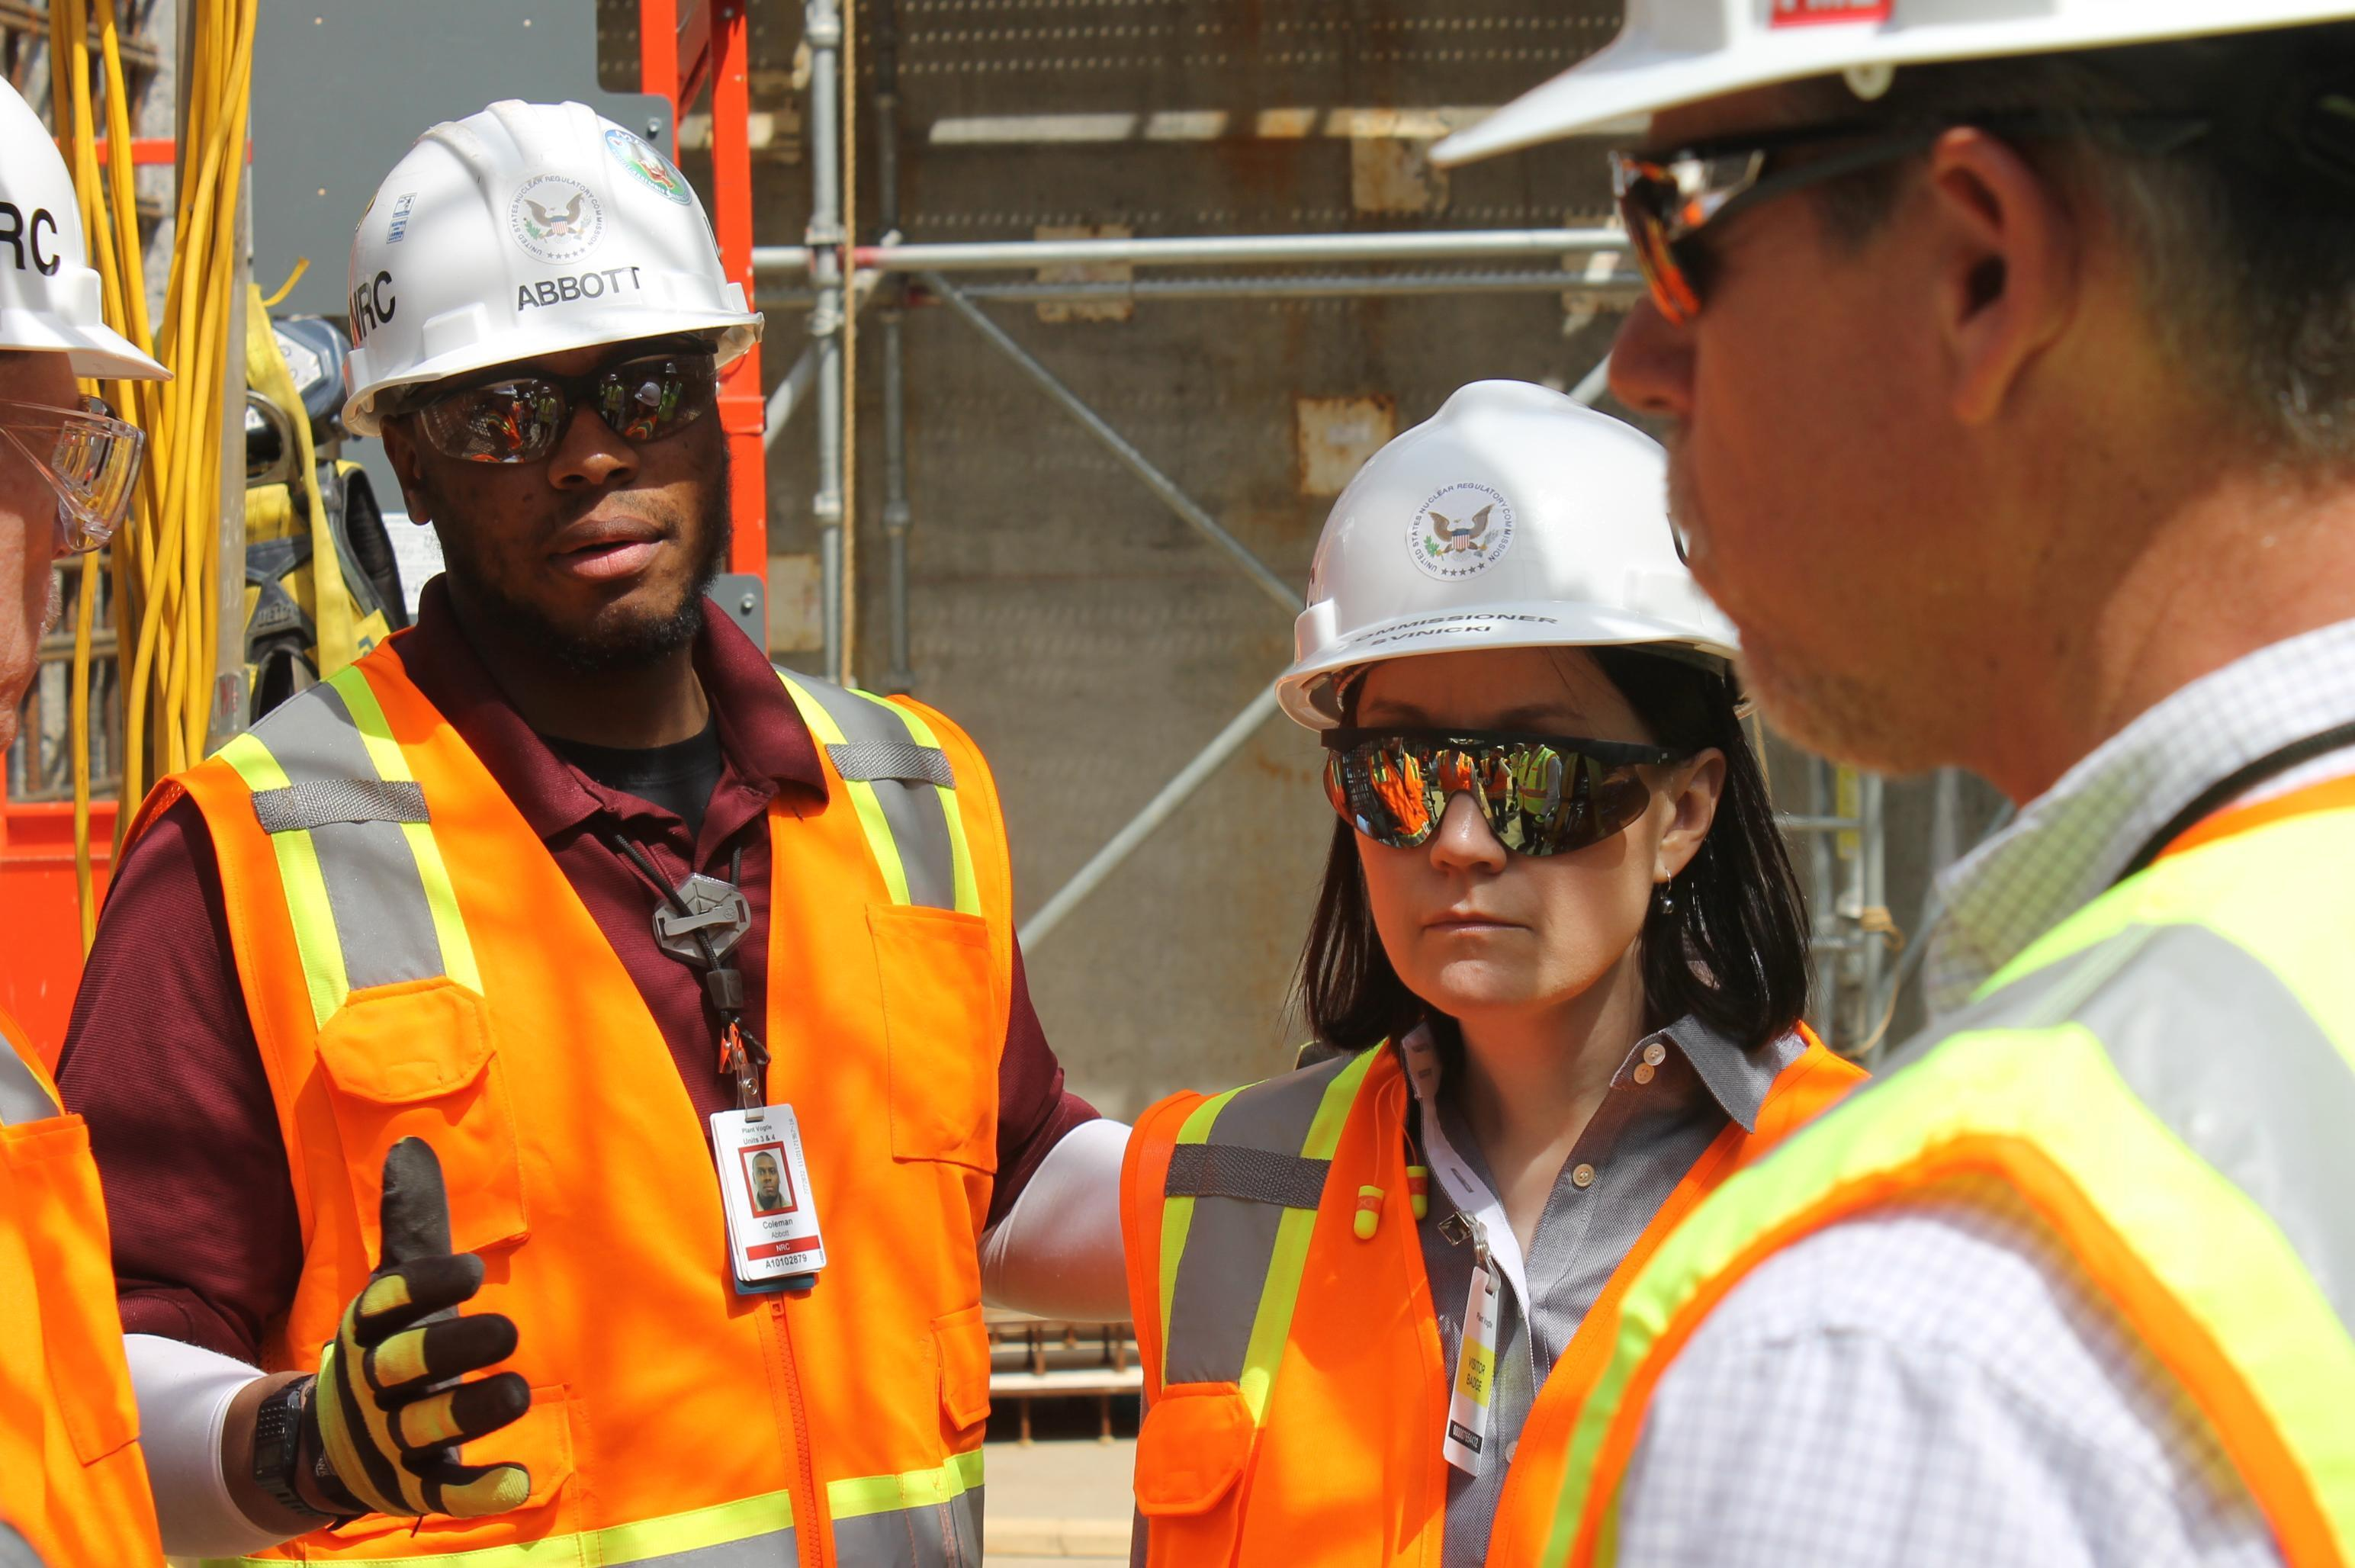vest: (115, 623, 1041, 1557), (1108, 957, 2087, 1561)
